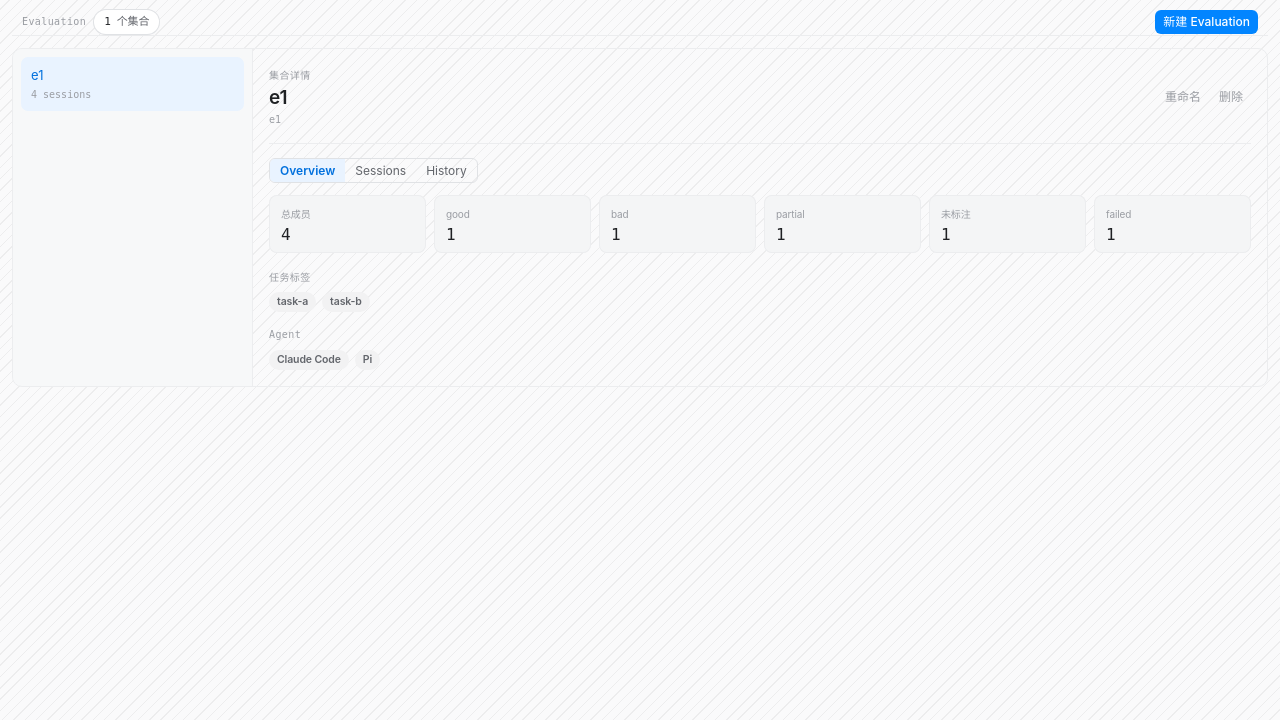
EvaluationView › Agent filter narrows members to one agent
Step 1. Click the button "Sessions" → (381, 170), box [345,158,416,182]
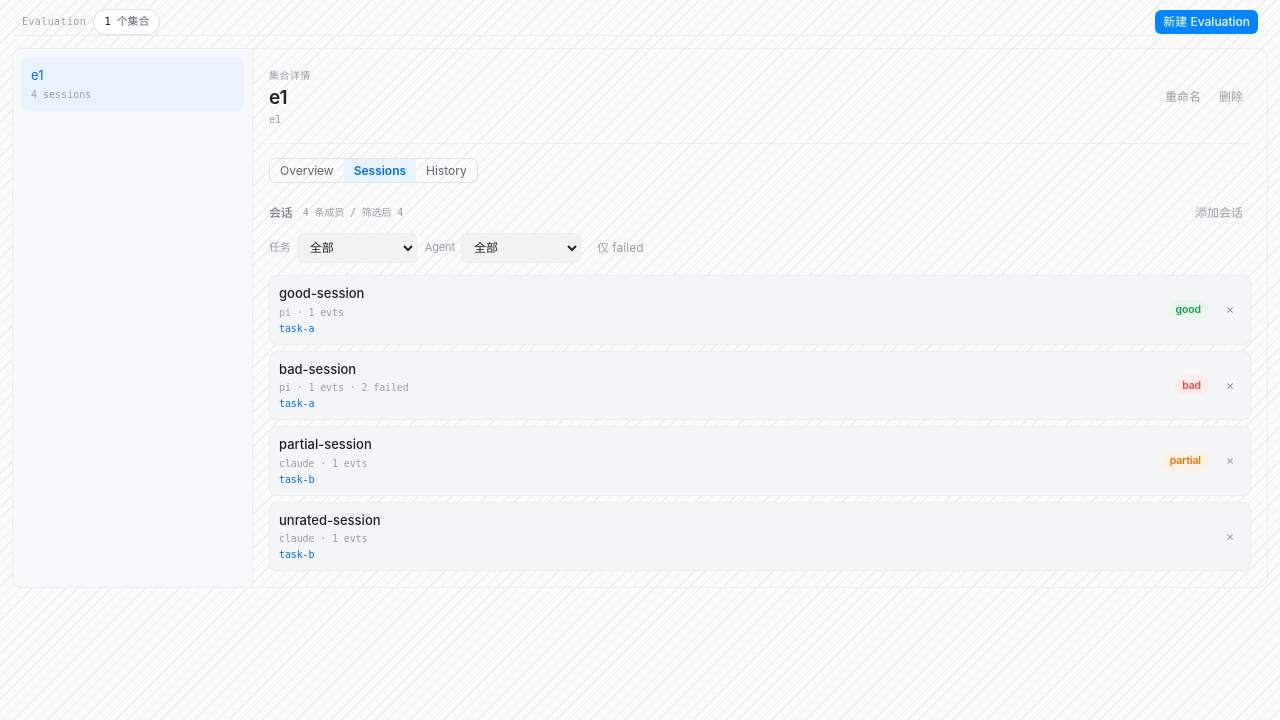
Step 2. Select "Claude Code" in the dropdown labelled "Agent" → (521, 248), box [461,233,581,263]
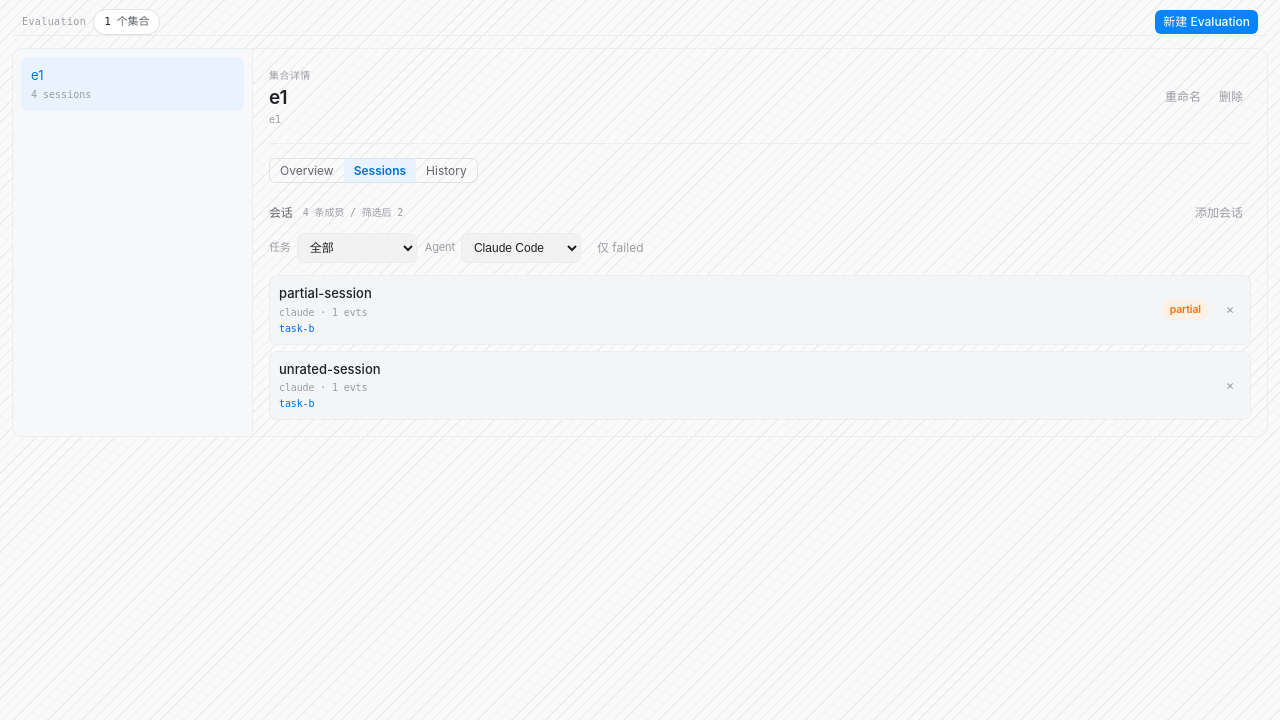
Result: the button "partial-session" is shown at [279,284,1152,304]
Result: the button "good-session" is gone
